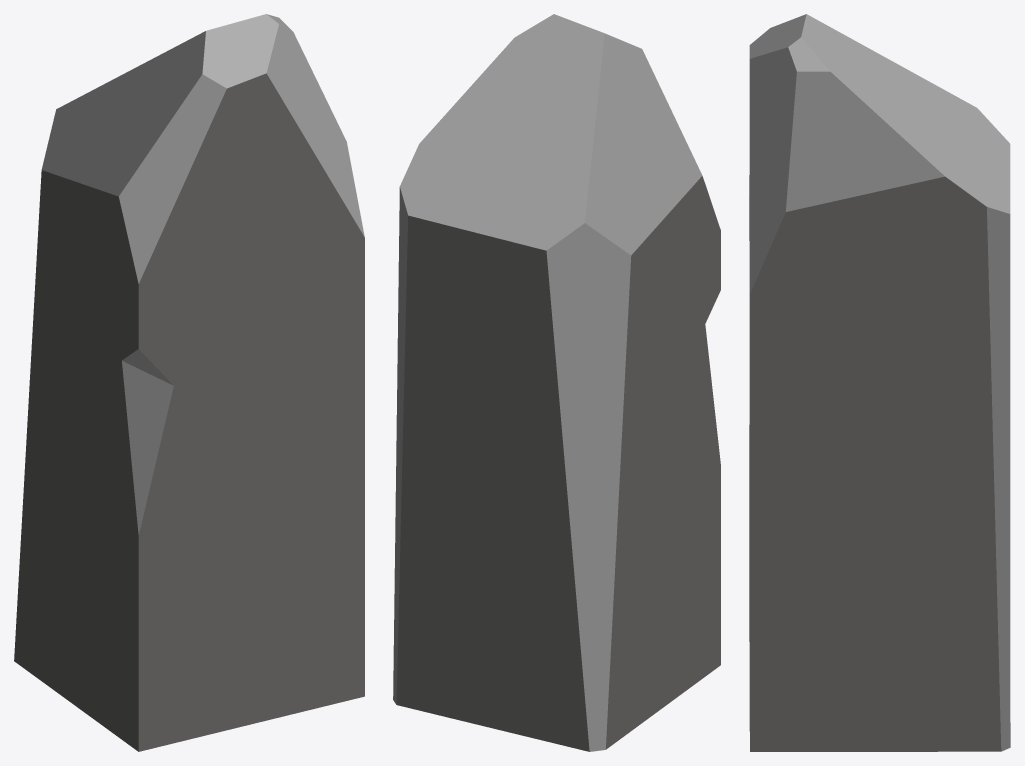
The model's file is 20C_Pillar02.fbx.
3 renders of one model, left to right at view 1: azimuth 30°, elevation 25°; view 2: azimuth 150°, elevation 25°; view 3: azimuth 270°, elevation 25°, orthographic. The views are drawn at different scales.
Parts seen in each view (by area): view 1: 20C_Pillar02; view 2: 20C_Pillar02; view 3: 20C_Pillar02.
Part boxes in pixels (box(x1,y1,x2,y2)): 20C_Pillar02: box(14, 14, 364, 751); 20C_Pillar02: box(393, 14, 720, 751); 20C_Pillar02: box(749, 14, 1010, 751).
Bounding box in the file's own units: 7.02 × 20.15 × 7.02.
